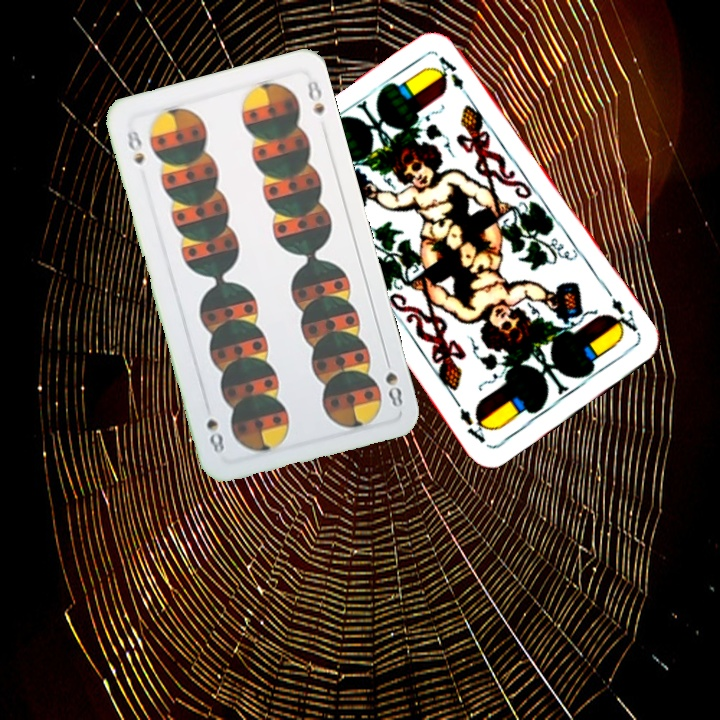EA: (605, 294, 643, 338)
S8: (380, 352, 406, 411), (123, 124, 147, 168)
